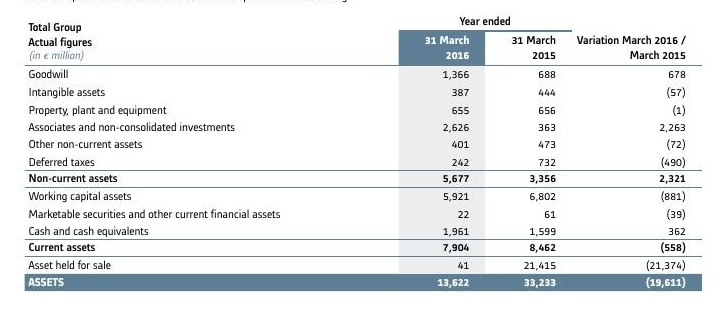table: (0, 0, 725, 309)
